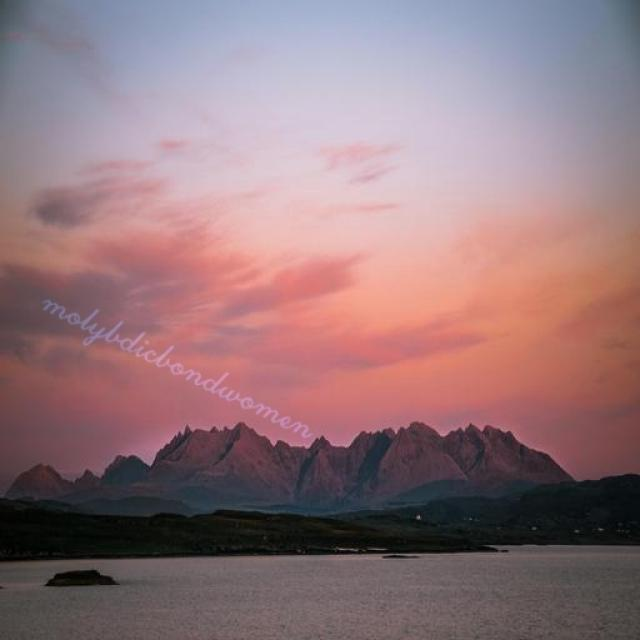watermark: (32, 282, 334, 446)
